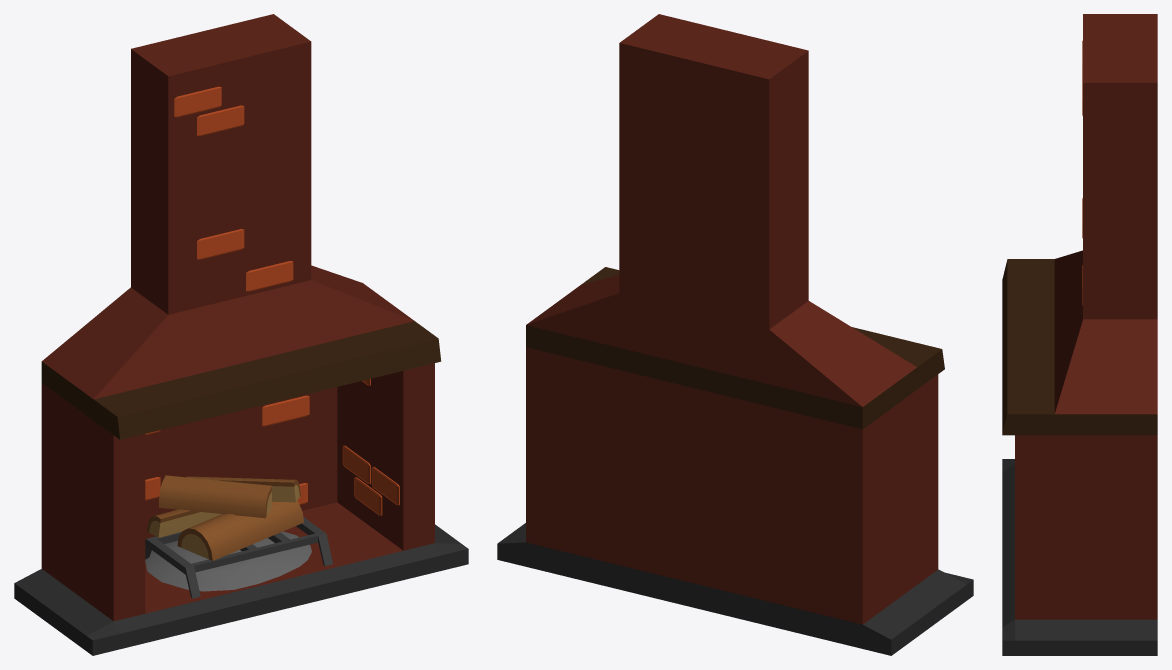
File: fireplace.fbx
3 renders of one model, left to right at view 1: azimuth 30°, elevation 25°; view 2: azimuth 150°, elevation 25°; view 3: azimuth 270°, elevation 25°, orthographic. The views are drawn at different scales.
Parts seen in each view (by area): view 1: Fireplace, Fire; view 2: Fireplace; view 3: Fireplace.
Boxes of the visible parts, <box> form: Fireplace: <box>14,14,468,655</box>; Fire: <box>145,475,332,598</box>; Fireplace: <box>497,14,973,655</box>; Fireplace: <box>1002,14,1157,655</box>.
Size of the model in its own units: 201 by 72.54 by 266.
